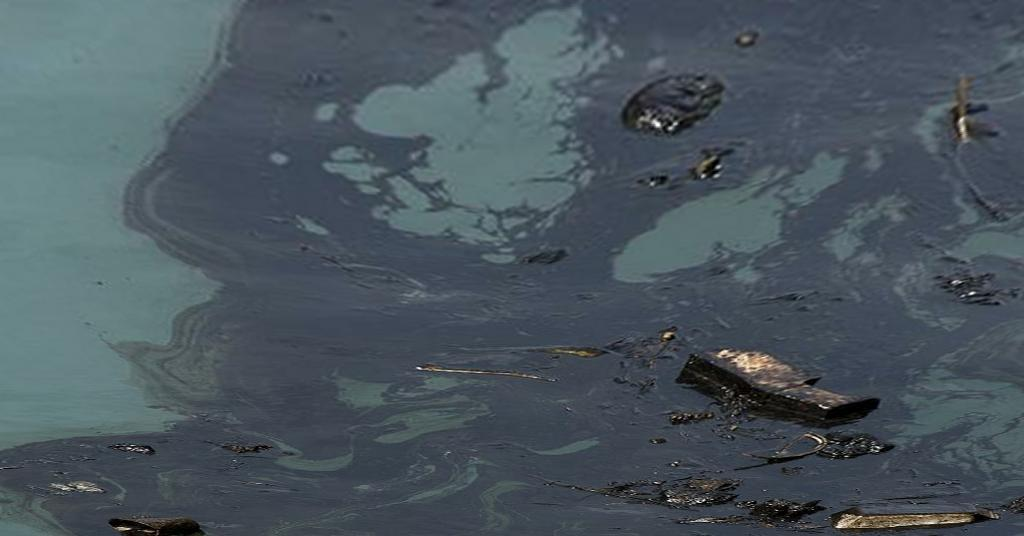Oil Pollution: (4, 2, 1024, 536)
